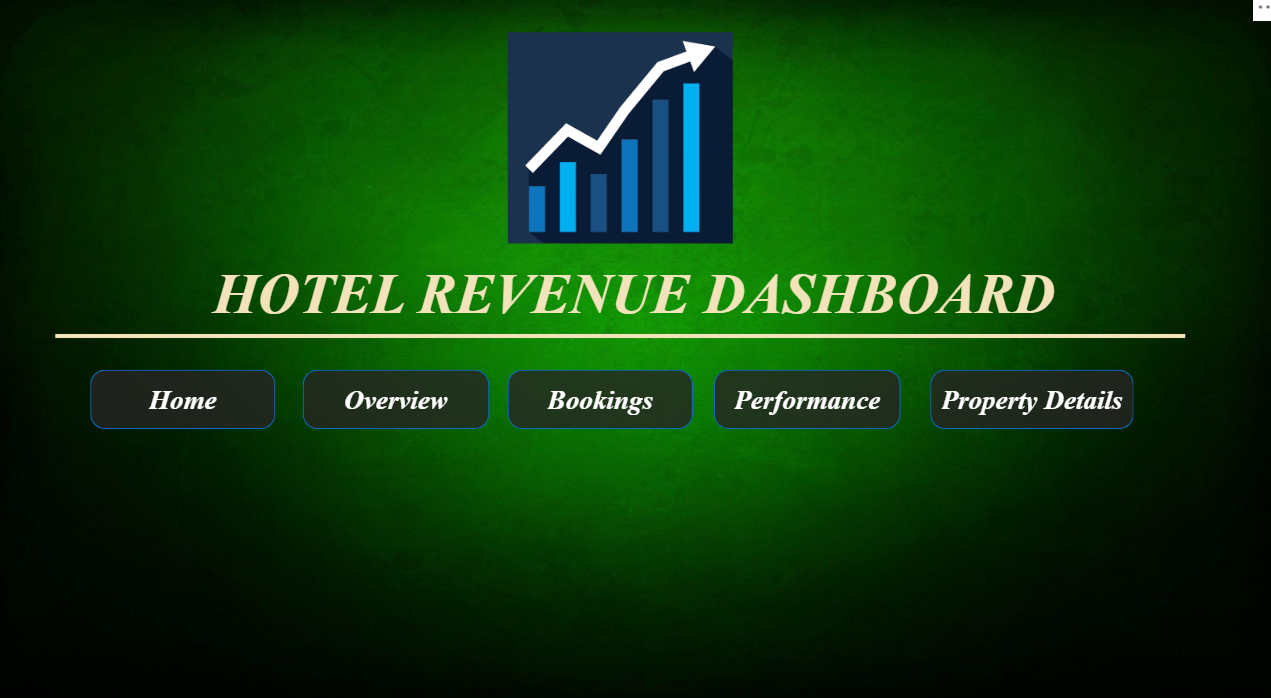

Layout of this report page (visuals, bound fields, positions):
{"tool":"powerbi","page":{"name":"Home ","canvas":[1280,720],"ordinal":0},"visuals":[{"type":"image","title":"Background_Image","box":[0,0,1280,720],"z":0},{"type":"image","title":"Logo_revenue","box":[516.2,37.6,221.2,212.9],"z":1000},{"type":"textbox","box":[0,261.6,1280,98.8],"z":2000},{"type":"shape","box":[104.3,372.9,182.3,58.4],"z":3000},{"type":"shape","box":[314.4,372.9,183.7,58.4],"z":4000},{"type":"shape","box":[516.2,372.9,182.3,58.4],"z":5000},{"type":"shape","box":[719.3,372.9,183.7,58.4],"z":6000},{"type":"shape","box":[932.2,372.9,200.3,58.4],"z":7000},{"type":"shape","box":[70.2,318.8,1112.6,41.8],"z":8000}]}

Visuals, with their boxes in screenshot pixels (x1, y1, x2, y2), scaled from the page's 1280x720 canvas onto the 1271x698 screenshot:
"Background_Image" image: 0,0,1270,697
"Logo_revenue" image: 513,36,732,243
textbox: 0,254,1270,349
shape: 104,362,285,418
shape: 312,362,495,418
shape: 513,362,694,418
shape: 714,362,897,418
shape: 926,362,1125,418
shape: 70,309,1174,350
